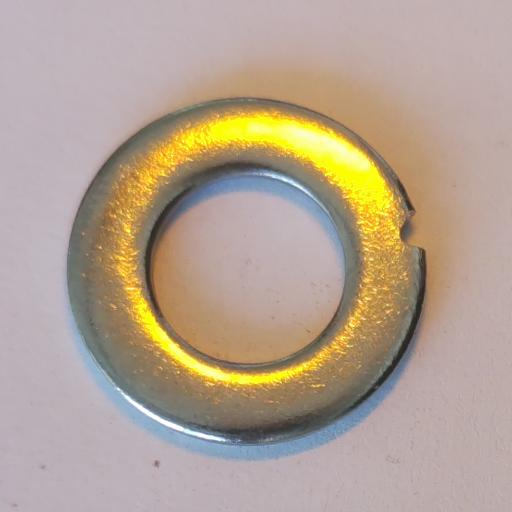burr: (395, 209, 429, 253)
